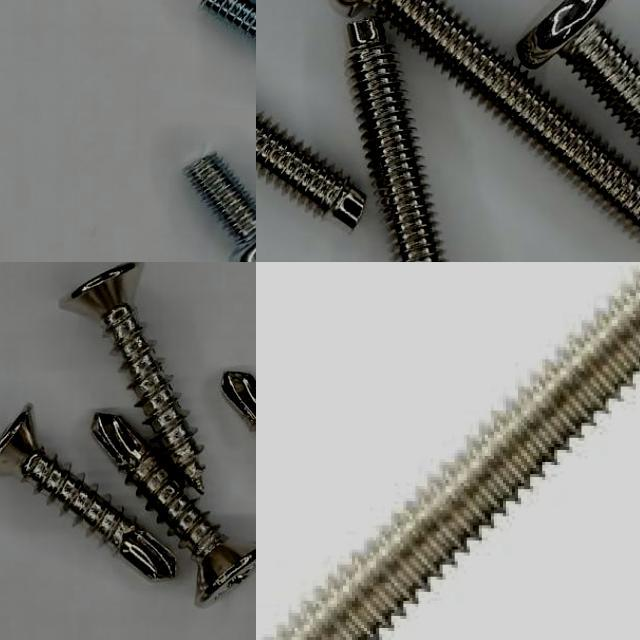Screw: (272, 272, 640, 640), (339, 0, 640, 227), (59, 262, 203, 494), (91, 413, 256, 604), (0, 404, 174, 579), (348, 17, 442, 262), (518, 0, 640, 140), (256, 111, 365, 227), (185, 154, 256, 262), (201, 0, 256, 38)
